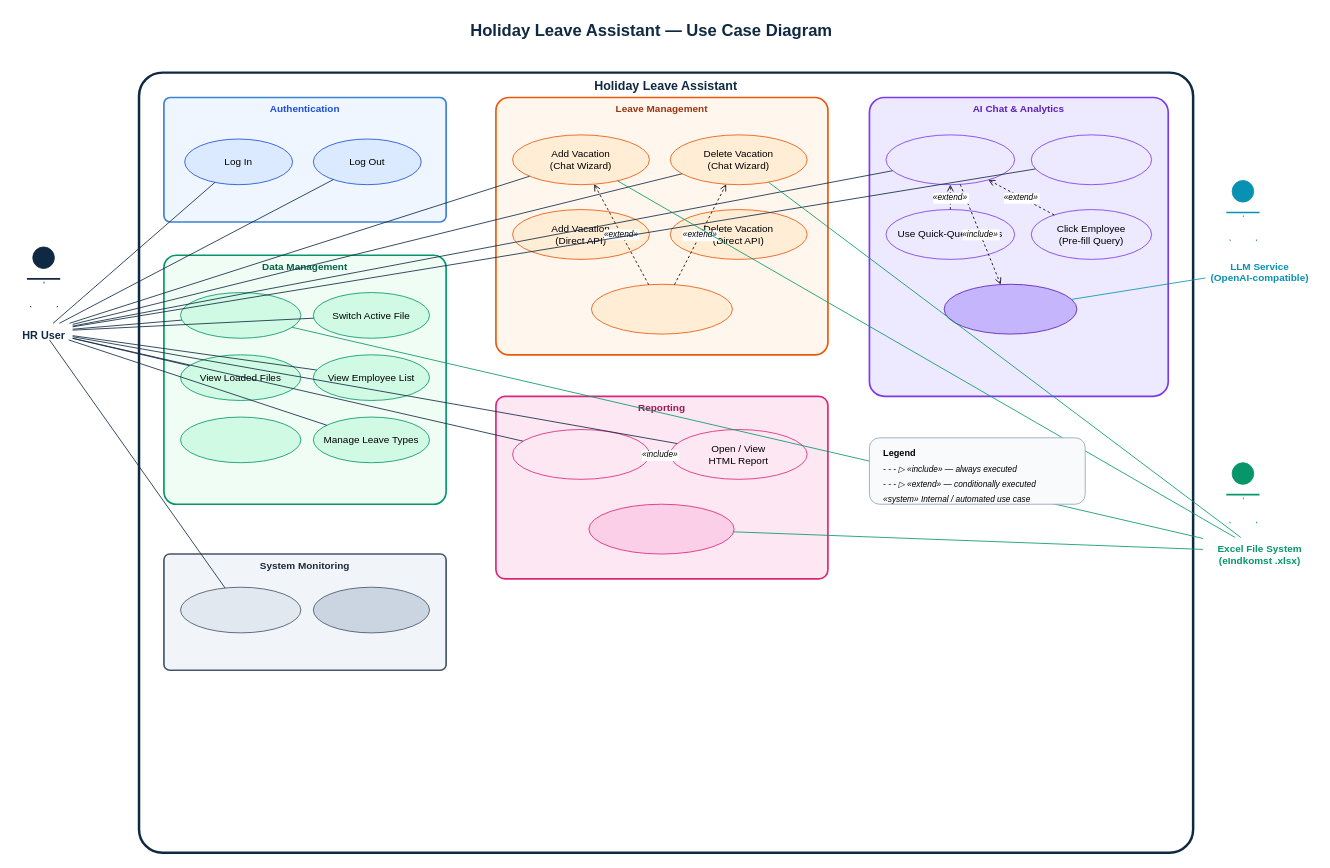
The diagram is 1330 pixels wide and 868 high, and some of its shapes have lost their labels. The centre of each missing label's shape, as x and y in pixels:
Ask Leave Questions: [950,159]
Check Sync Status: [240,609]
Clear Chat History: [1091,159]
Confirm / Cancel Action: [661,308]
Generate HTML Leave Report: [580,454]
Upload Excel File: [240,315]
View Available Years: [240,439]
«system» Audit Logging: [371,609]
«system» Auto-sync Working→Master: [661,528]
«system» Invoke LLM API: [1010,308]
